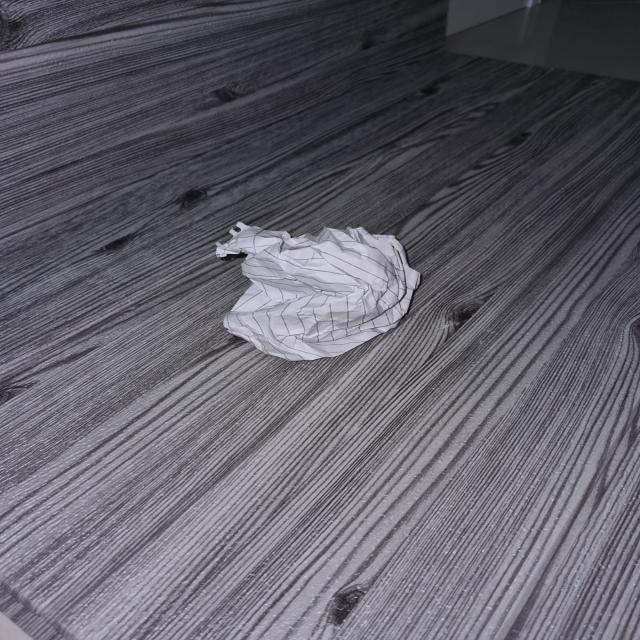Paper: (215, 225, 418, 361)
